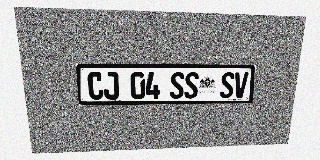0: (130, 72, 145, 99)
4: (146, 72, 160, 99)
C: (87, 72, 104, 100)
J: (103, 72, 119, 100)
S: (170, 72, 185, 99), (184, 72, 199, 99), (220, 72, 235, 98)
V: (233, 72, 249, 98)
